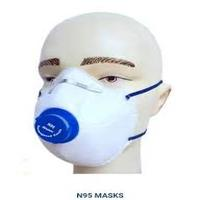flu mask: (26, 69, 142, 168)
